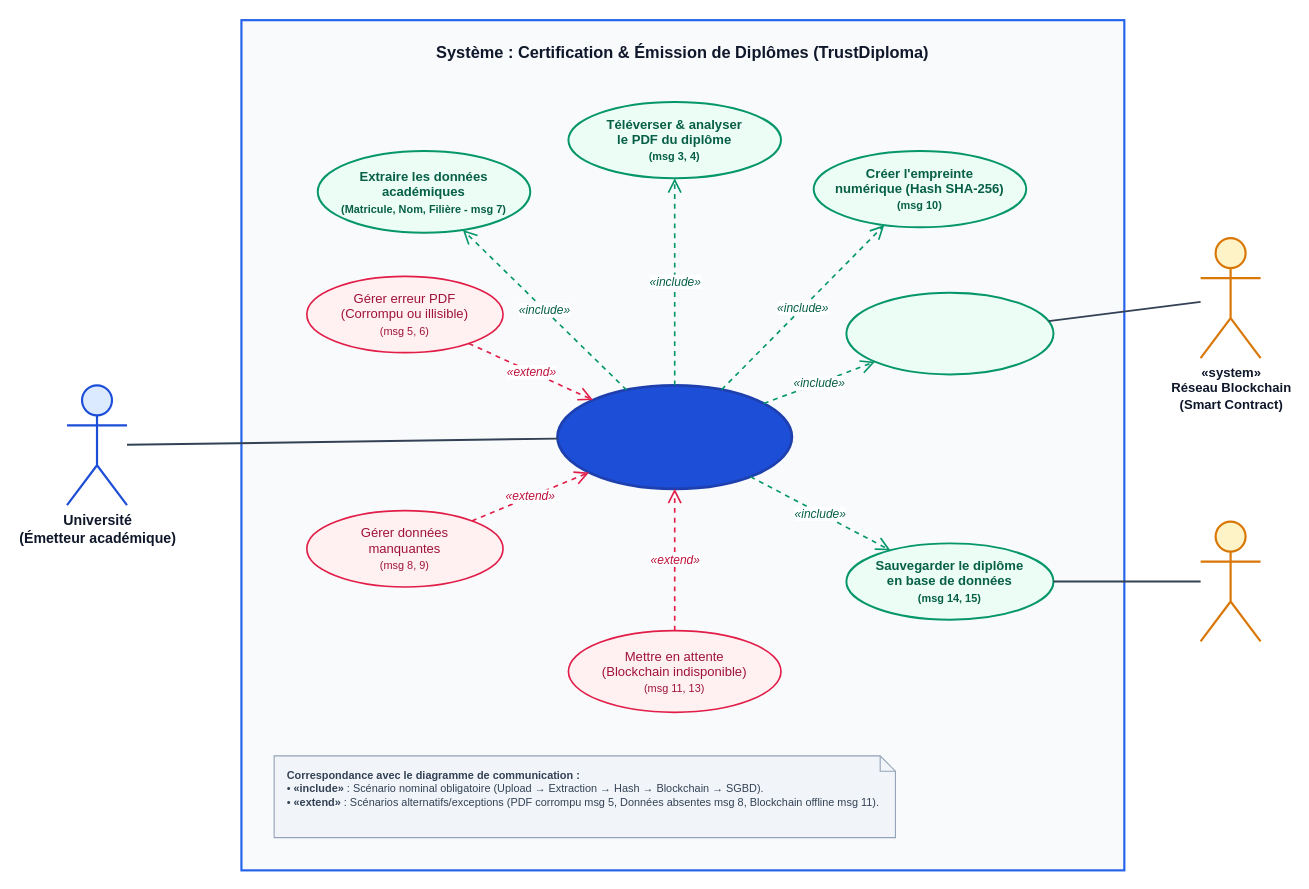
Some shapes in this 1309 by 889 pixel diagram are drawn without their labels. The box of each missing label's shape, as (x1, y1, x2, y2) in pixels:
Ancrer l'empreinte sur la Blockchain (msg 12): (845, 291, 1054, 375)
«system» SGBD (Base de données): (1199, 520, 1261, 642)
Émettre un diplôme (Certification numérique): (556, 383, 793, 490)
